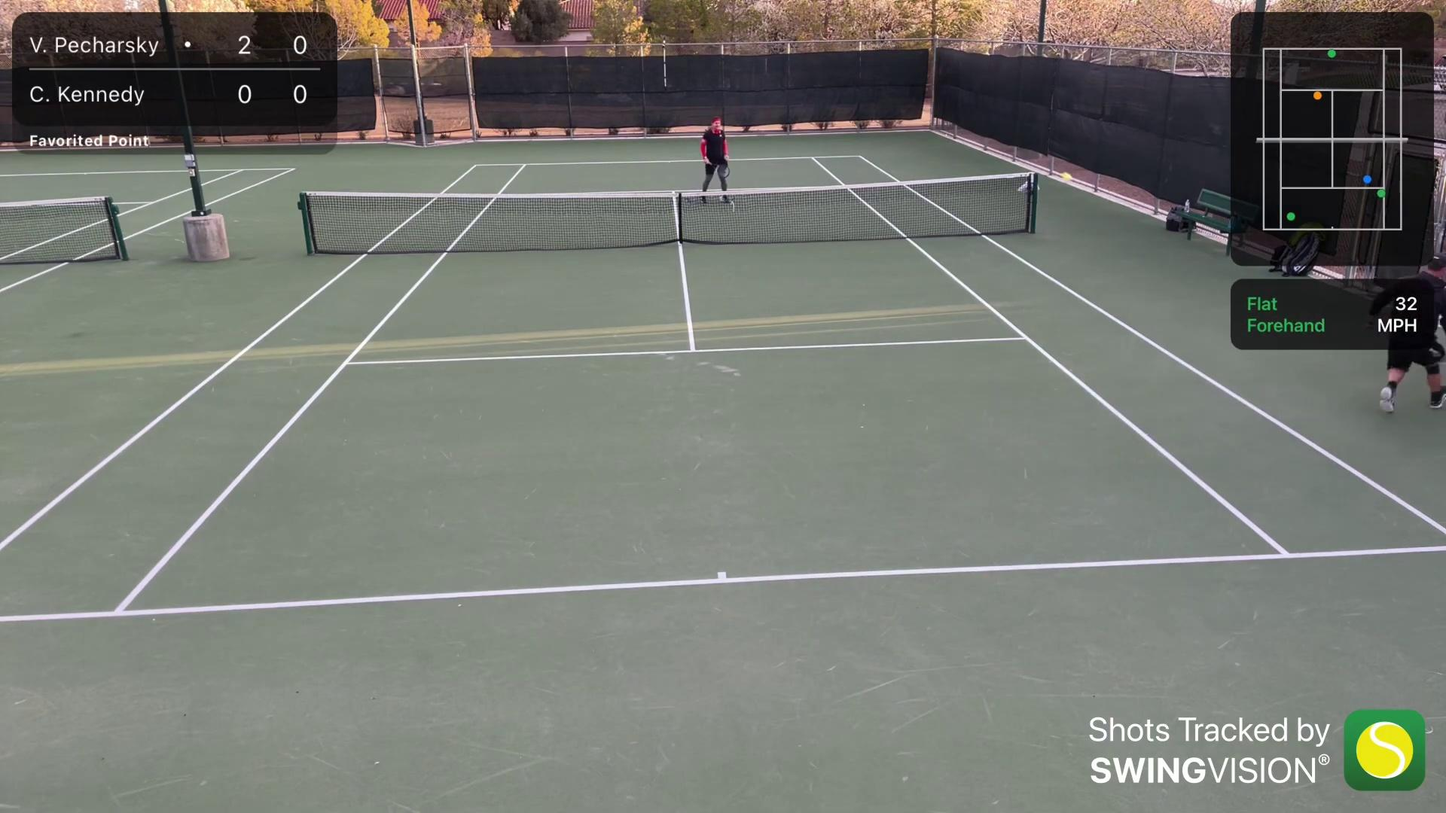ball: (1057, 169, 1074, 185)
